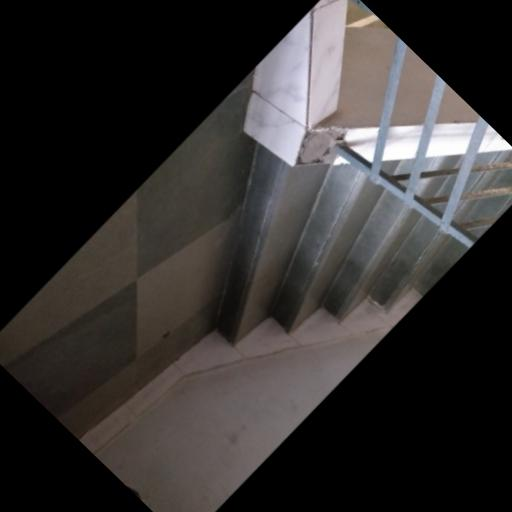stairs: (217, 143, 467, 342)
